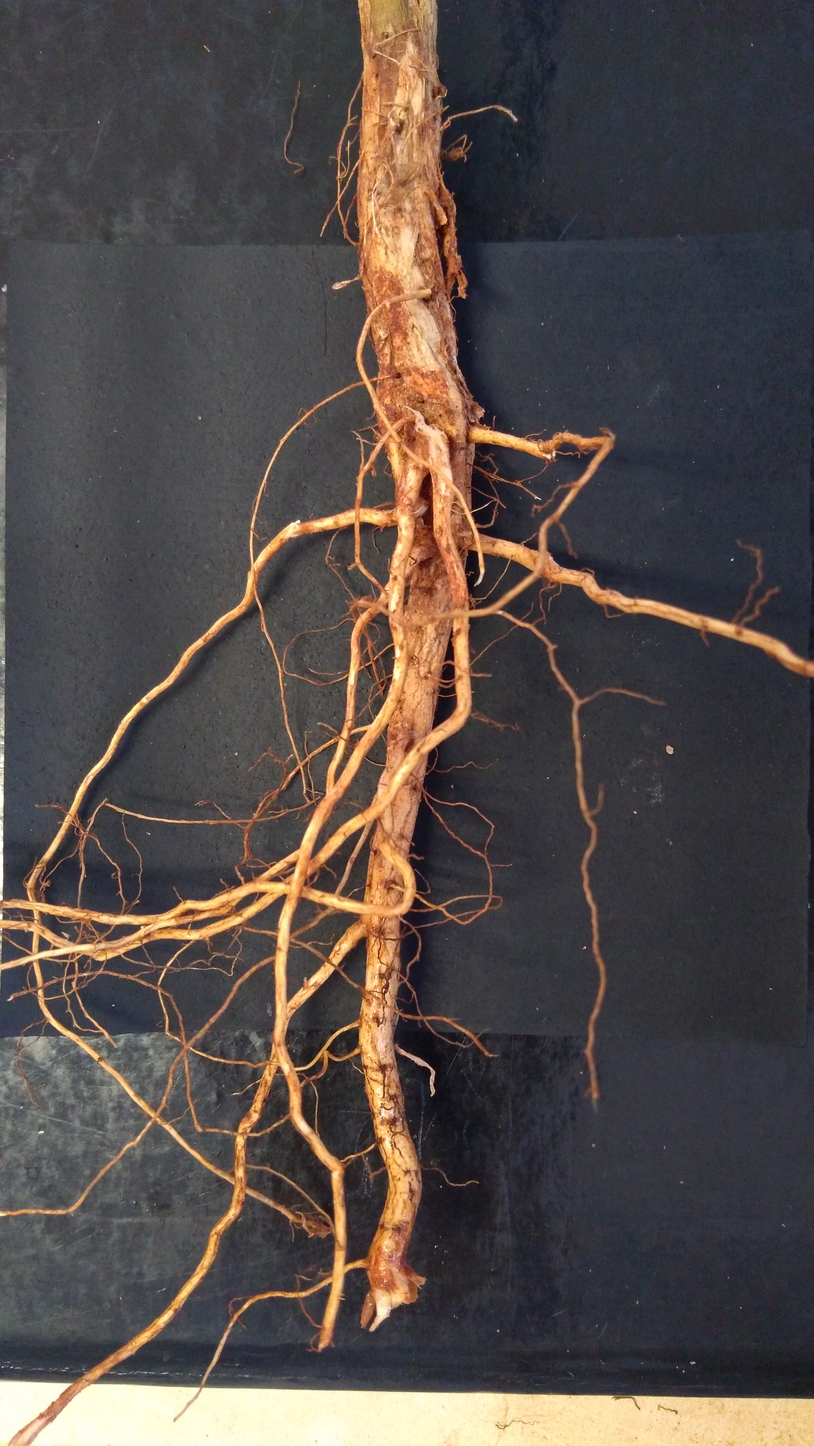nodule: (390, 1262, 418, 1308), (410, 523, 437, 562), (392, 496, 429, 520), (456, 517, 473, 551), (388, 106, 408, 131), (466, 399, 486, 423), (446, 252, 463, 276), (438, 182, 454, 207), (442, 233, 457, 258), (308, 1224, 332, 1238), (449, 503, 463, 524), (457, 273, 467, 299), (414, 516, 425, 538), (448, 146, 464, 161), (357, 594, 374, 608), (435, 208, 448, 225), (332, 280, 350, 290), (437, 83, 448, 98), (373, 431, 382, 442), (666, 744, 674, 755), (552, 432, 563, 440), (411, 842, 415, 847)
